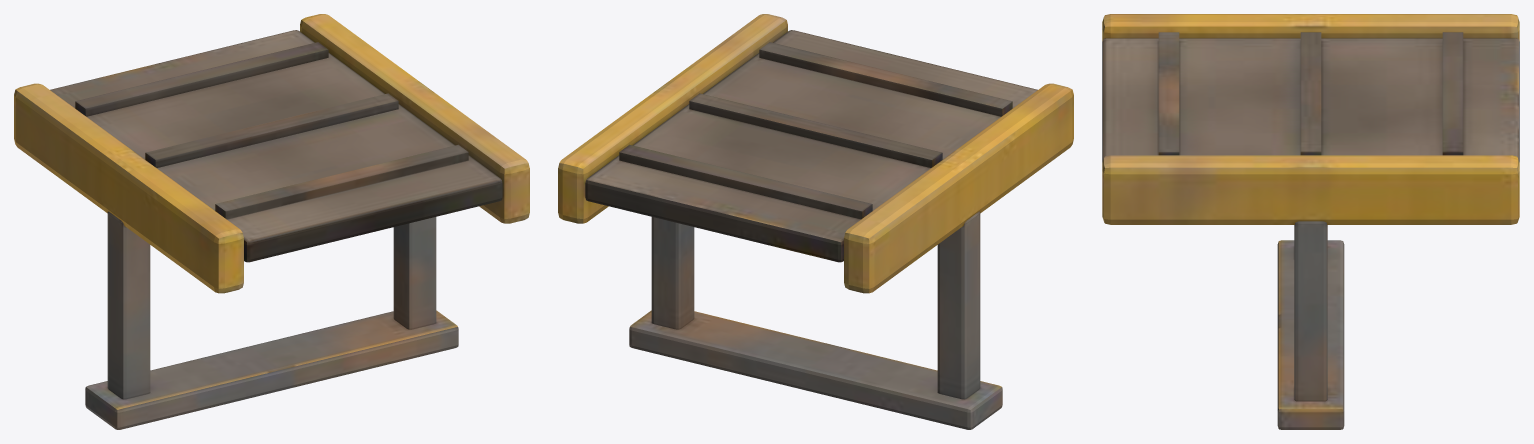
The model's file is conveyor_straight.glb.
3 views of the same model, side by side, from view 1: azimuth 30°, elevation 25°; view 2: azimuth 150°, elevation 25°; view 3: azimuth 270°, elevation 25° (orthographic).
Parts seen in each view (by area): view 1: ConveyorStraight_Mesh; view 2: ConveyorStraight_Mesh; view 3: ConveyorStraight_Mesh.
Part boxes in pixels (left/top/right/bottom): ConveyorStraight_Mesh: left=14, top=14, right=529, bottom=429; ConveyorStraight_Mesh: left=558, top=14, right=1073, bottom=429; ConveyorStraight_Mesh: left=1102, top=14, right=1519, bottom=429.
Bounding box in the file's own units: 0.48 × 0.34 × 0.5.
1 material, 1 textured.
